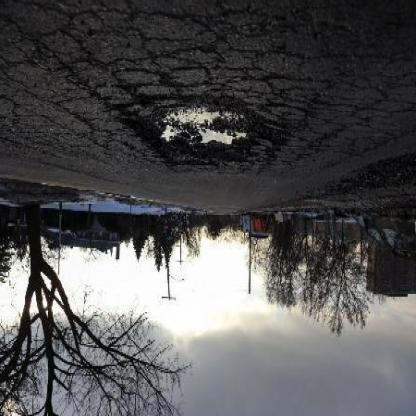pothole: (124, 95, 272, 169)
